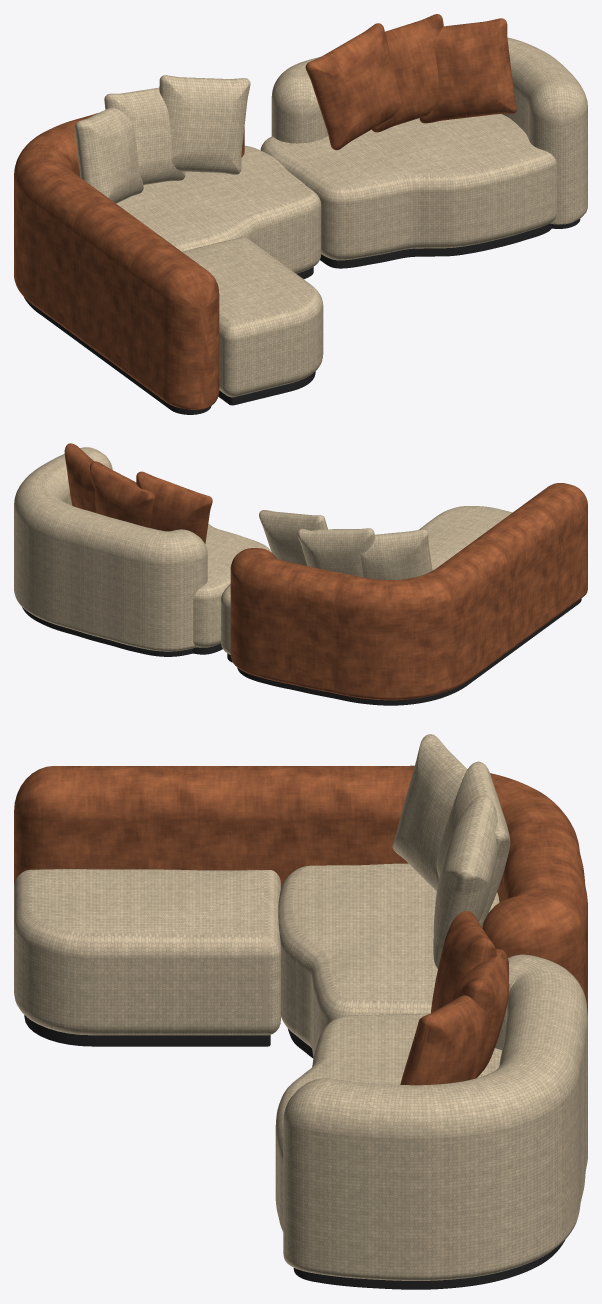
Rendered from corner.glb.
3 views of the same model, one above another, from view 1: azimuth 30°, elevation 25°; view 2: azimuth 150°, elevation 25°; view 3: azimuth 270°, elevation 25° (orthographic). The views are drawn at different scales.
Parts seen in each view (by area): view 1: fabric, trim (×2), accent, pillows; view 2: trim (×2), fabric, pillows, accent; view 3: fabric, trim (×2), pillows, accent.
Part boxes in pixels (bbox=[...]): fabric: bbox=[116, 37, 587, 397]; trim (×2): bbox=[14, 113, 580, 414]; accent: bbox=[305, 14, 516, 150]; pillows: bbox=[74, 75, 250, 203]; trim (×2): bbox=[22, 483, 587, 705]; fabric: bbox=[14, 447, 512, 654]; pillows: bbox=[259, 510, 432, 579]; accent: bbox=[64, 443, 212, 543]; fabric: bbox=[14, 863, 587, 1280]; trim (×2): bbox=[14, 765, 587, 1289]; pillows: bbox=[392, 734, 510, 969]; accent: bbox=[400, 911, 509, 1085].
Size of the model in its own units: 3.2 by 1.06 by 2.19.
Materials: 3 (2 with a texture image).
